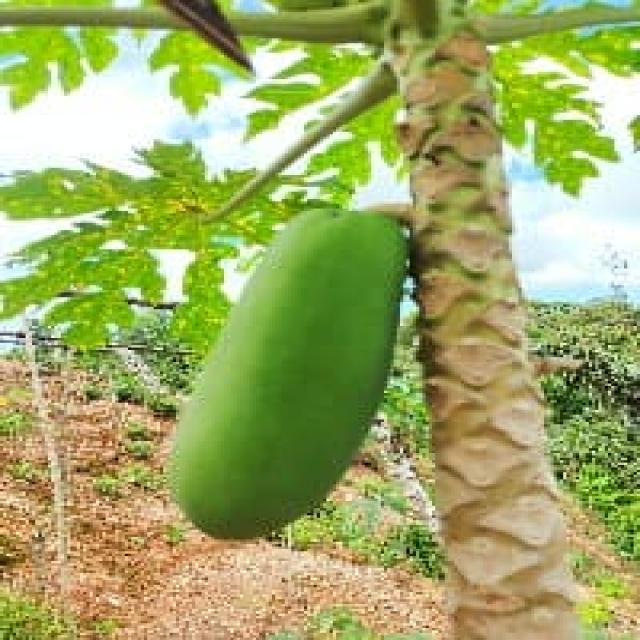Pepaya: (166, 204, 416, 539)
